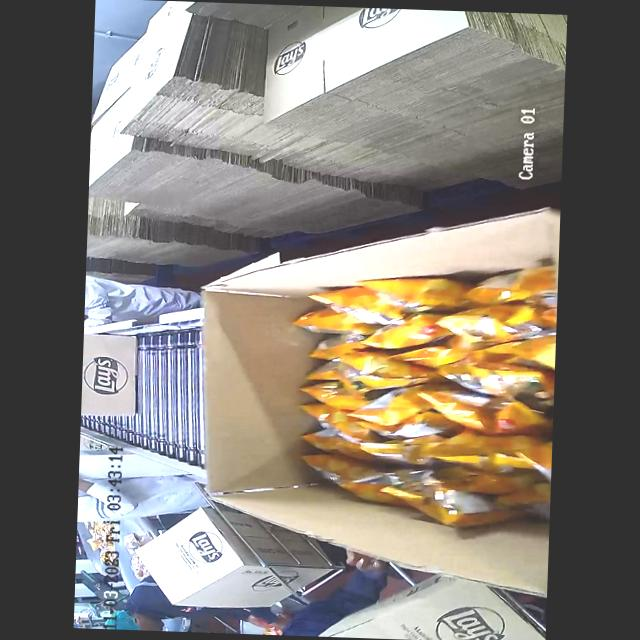cheese: (302, 263, 558, 492)
